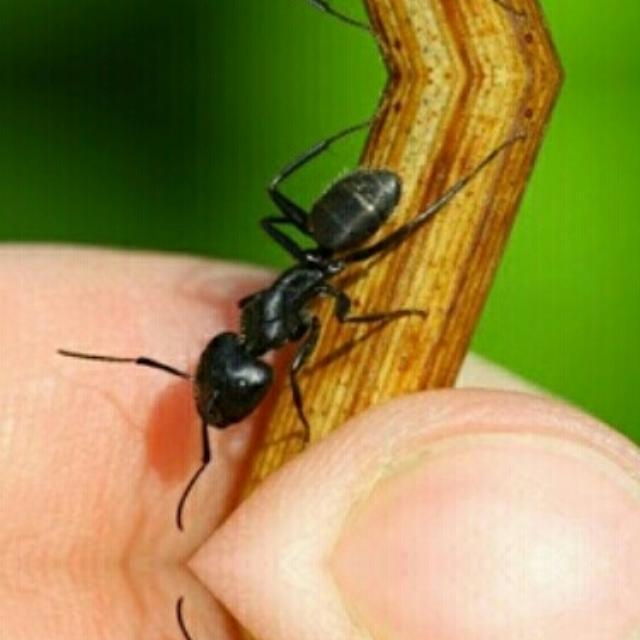Camponotus: (87, 120, 463, 470)
